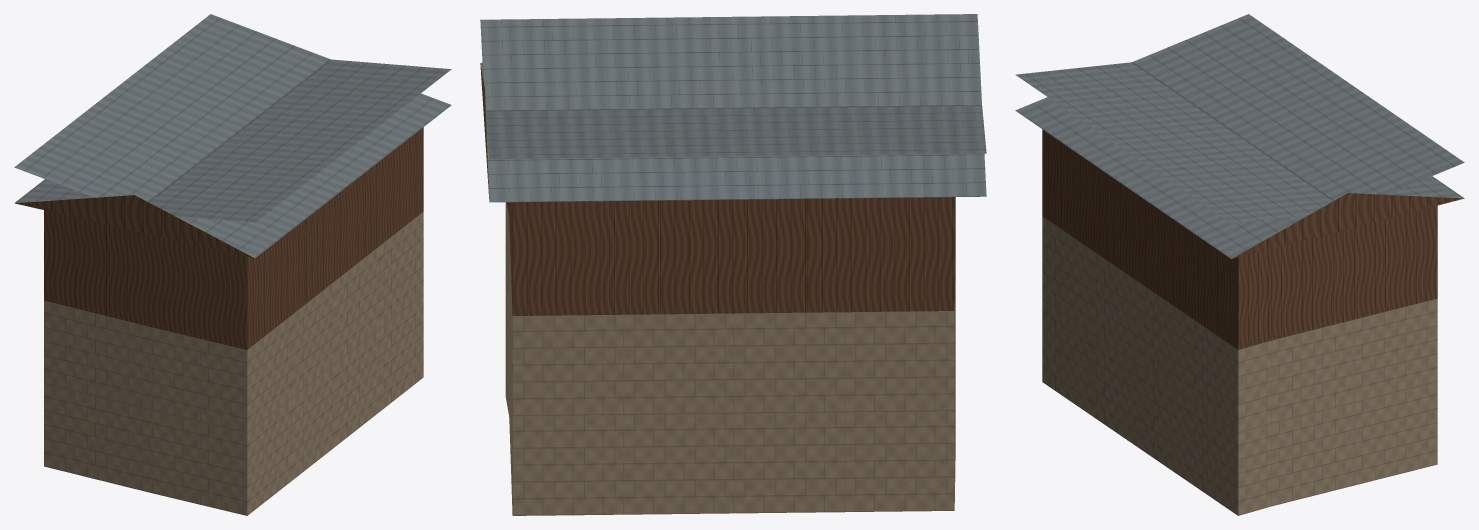
The model's file is bld_c24_-24_613.gltf.
3 renders of one model, left to right at view 1: azimuth 30°, elevation 25°; view 2: azimuth 150°, elevation 25°; view 3: azimuth 270°, elevation 25°, orthographic. The views are drawn at different scales.
Visible parts, largest first — view 1: bld_c24_-24_613; view 2: bld_c24_-24_613; view 3: bld_c24_-24_613.
Boxes of the visible parts, x1,y1,x2,y2 form: bld_c24_-24_613: (14,14,451,515); bld_c24_-24_613: (480,14,986,515); bld_c24_-24_613: (1015,14,1464,515).
Size of the model in its own units: 12.53 by 8.5 by 11.37.
Materials: 4 (4 with a texture image).
